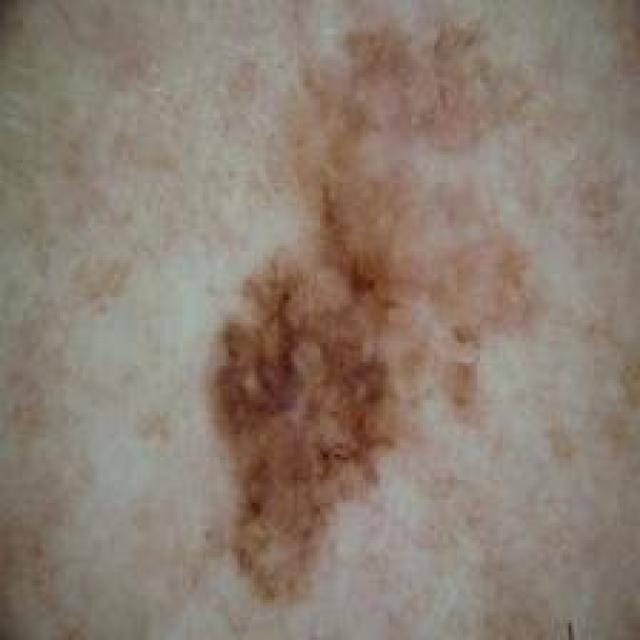cancer: (201, 169, 414, 601)
